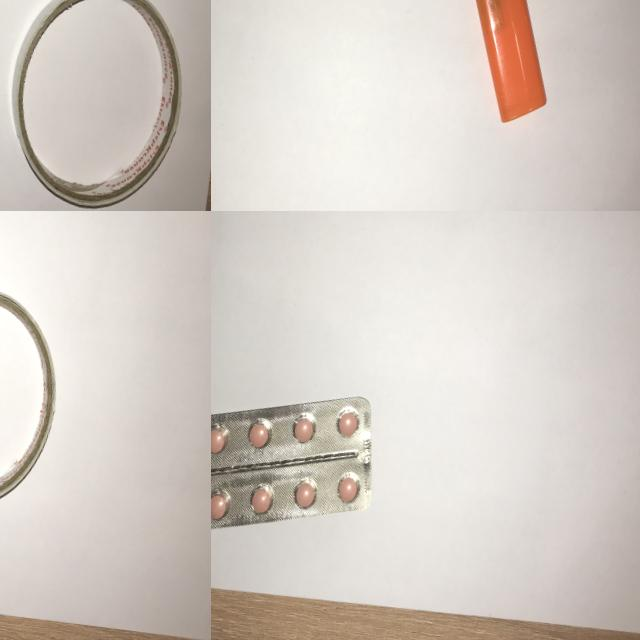lighter: (434, 0, 577, 132)
scotch: (0, 0, 201, 211), (0, 274, 71, 522)
tablets: (211, 358, 388, 567)
